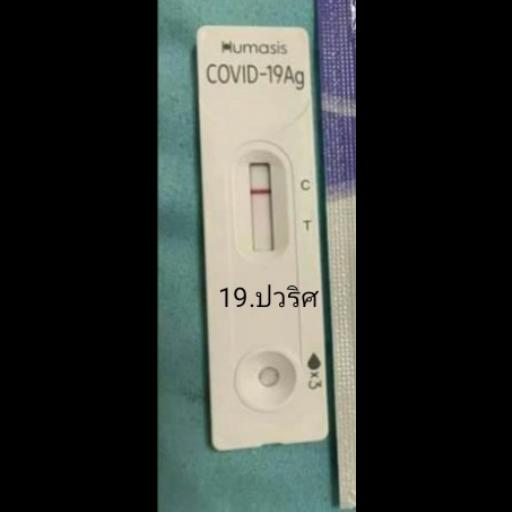Neg: (198, 26, 328, 450)
